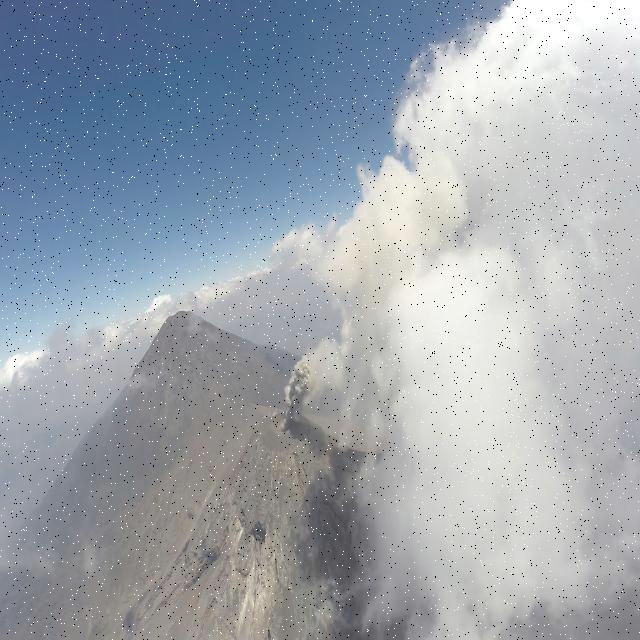Plume: (280, 342, 318, 432)
Summit: (227, 408, 343, 494)
